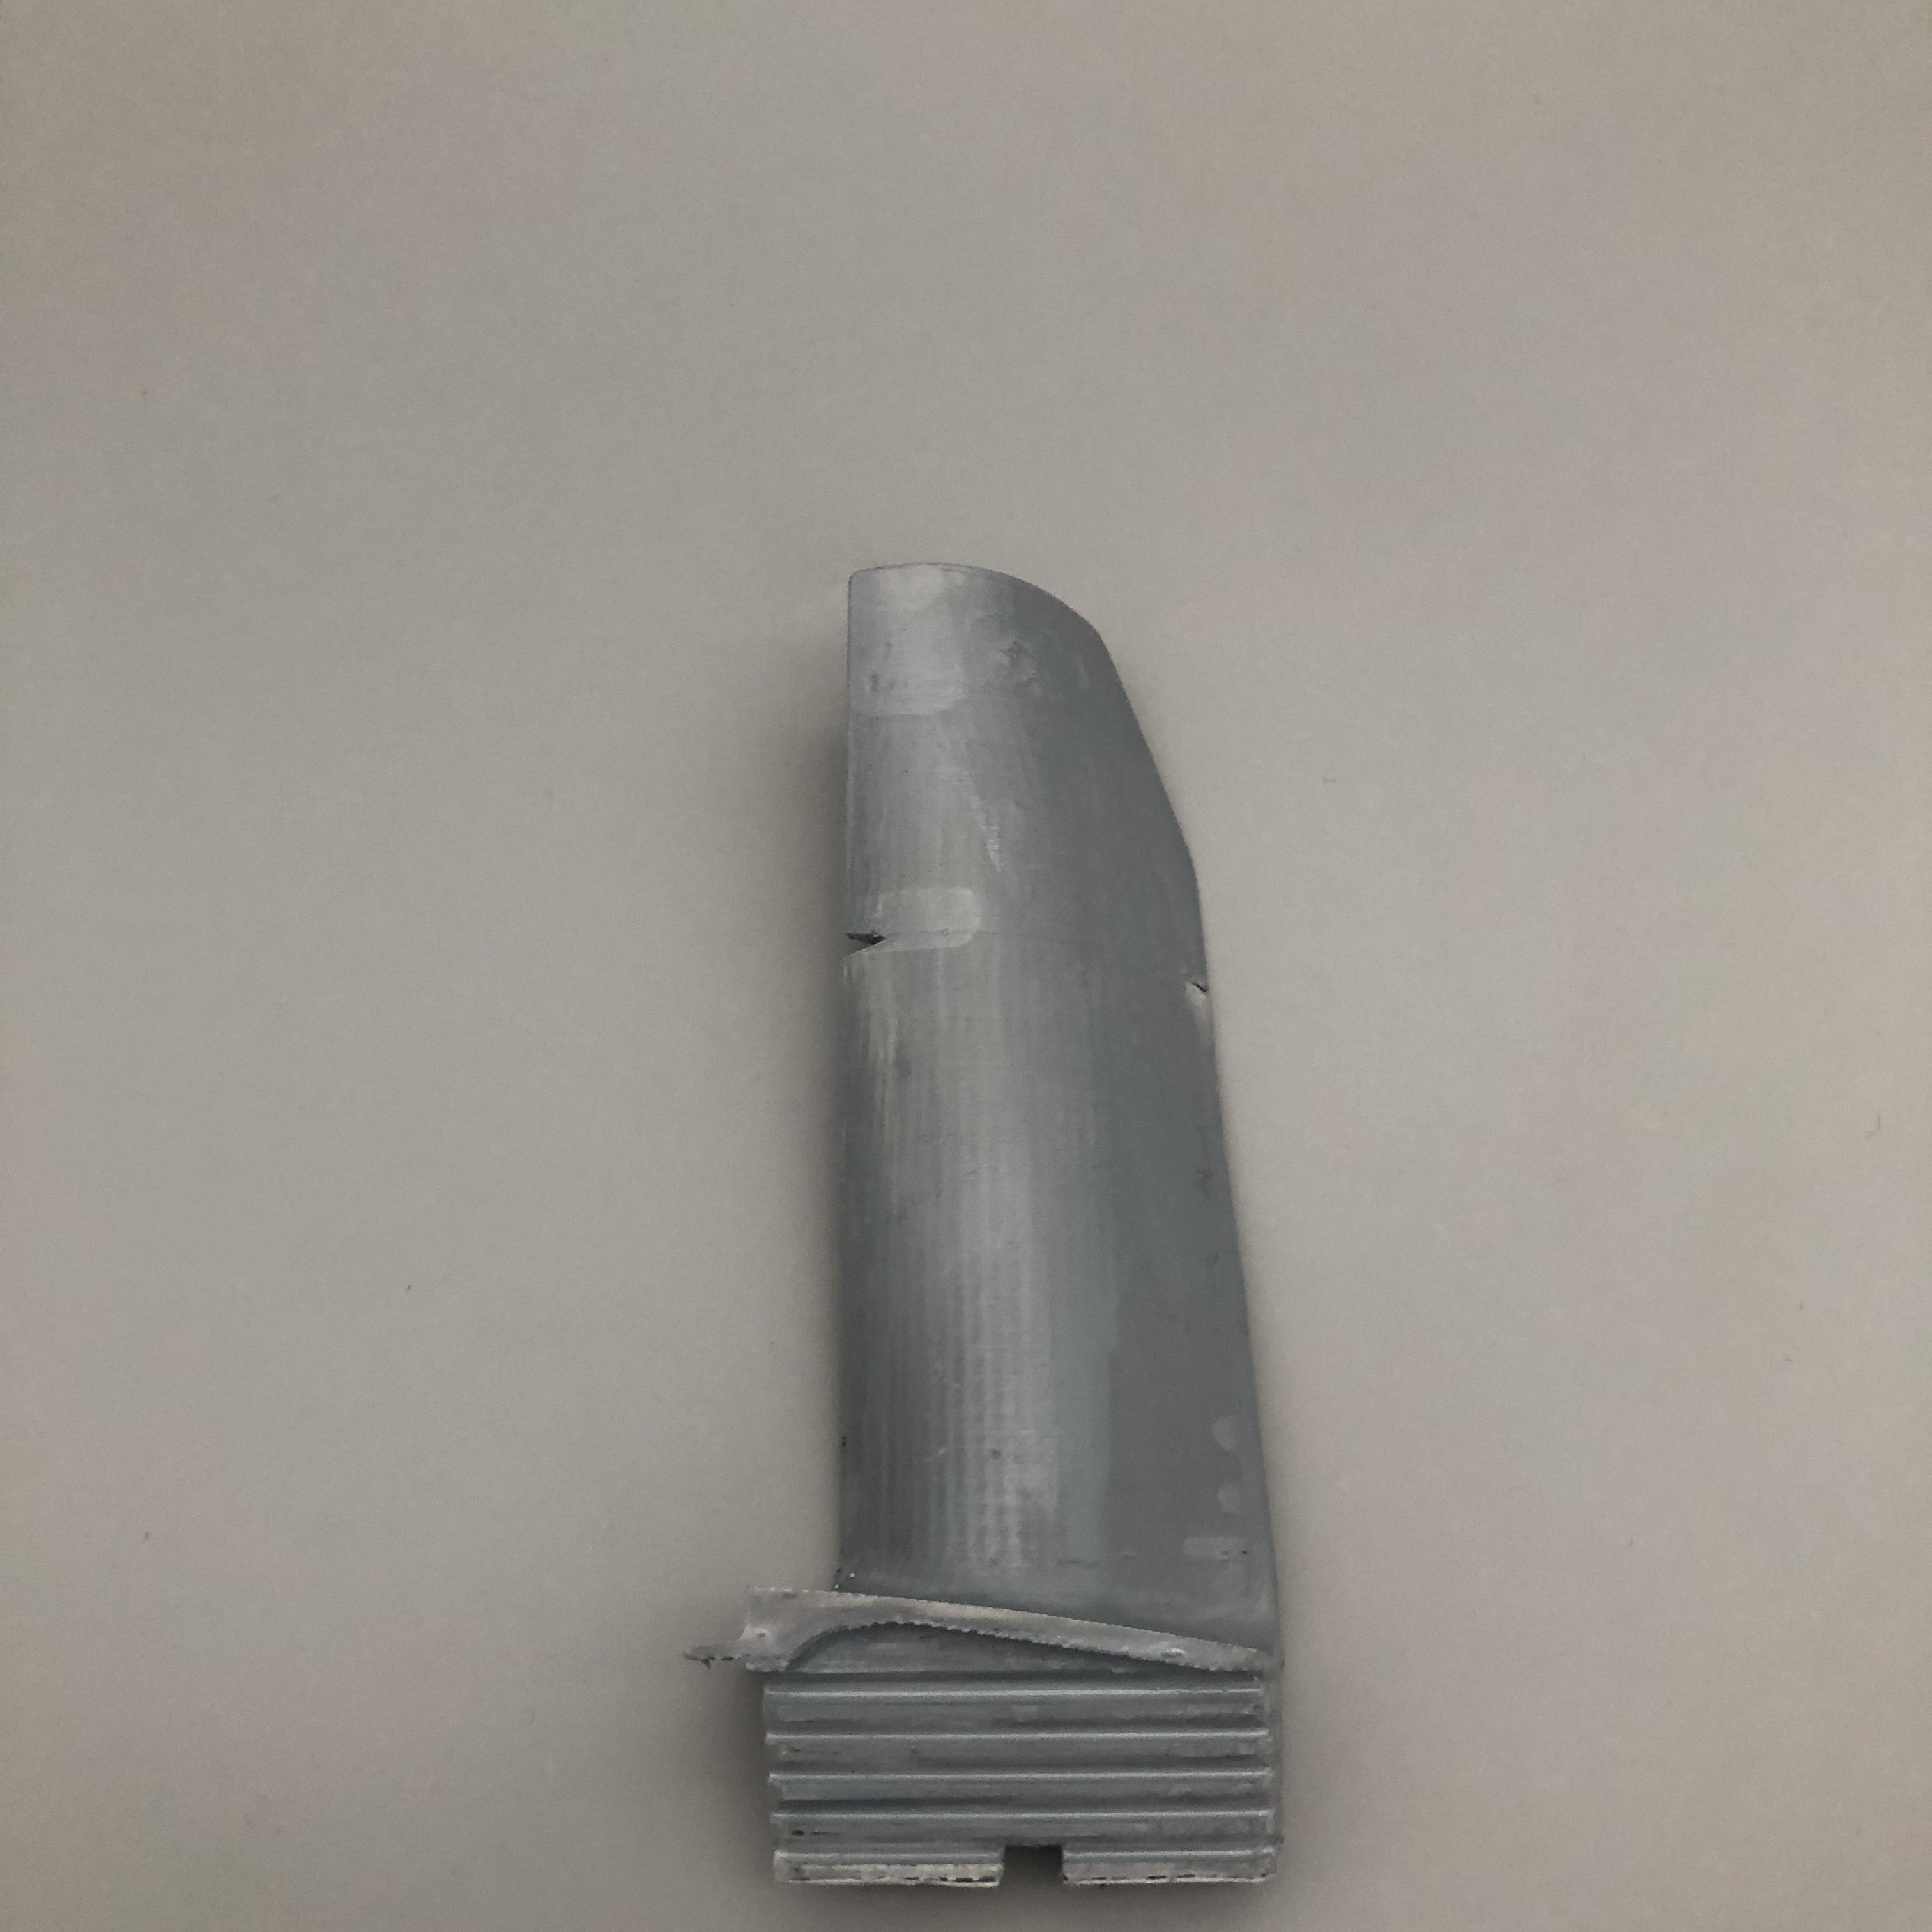groove: (846, 920, 885, 966), (1192, 971, 1212, 1001)
